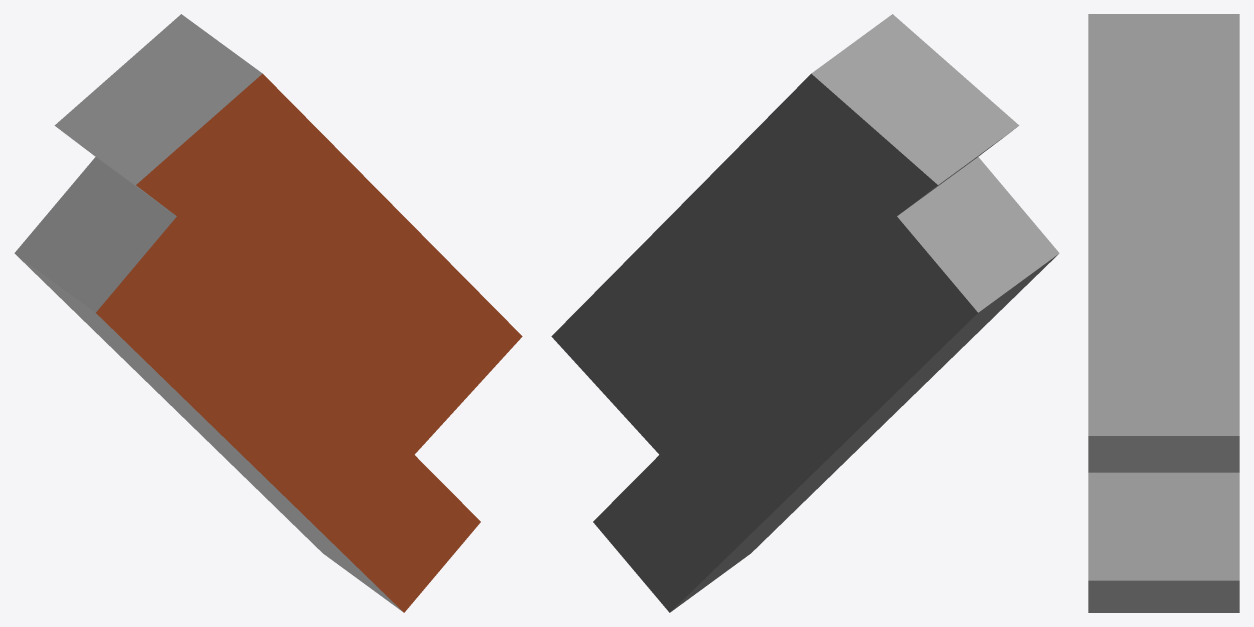
The model's file is construction_0449_assumed_A_Casa_h6m.obj.
3 views of the same model, side by side, from view 1: azimuth 30°, elevation 25°; view 2: azimuth 150°, elevation 25°; view 3: azimuth 270°, elevation 25° (orthographic). The views are drawn at different scales.
Visible parts, largest first — view 1: construction_0449_assumed_A_Casa; view 2: construction_0449_assumed_A_Casa; view 3: construction_0449_assumed_A_Casa.
Boxes of the visible parts, x1,y1,x2,y2 form: construction_0449_assumed_A_Casa: [14, 14, 522, 612]; construction_0449_assumed_A_Casa: [551, 14, 1059, 612]; construction_0449_assumed_A_Casa: [1088, 14, 1239, 612].
Size of the model in its own units: 18.17 by 23.34 by 6.
